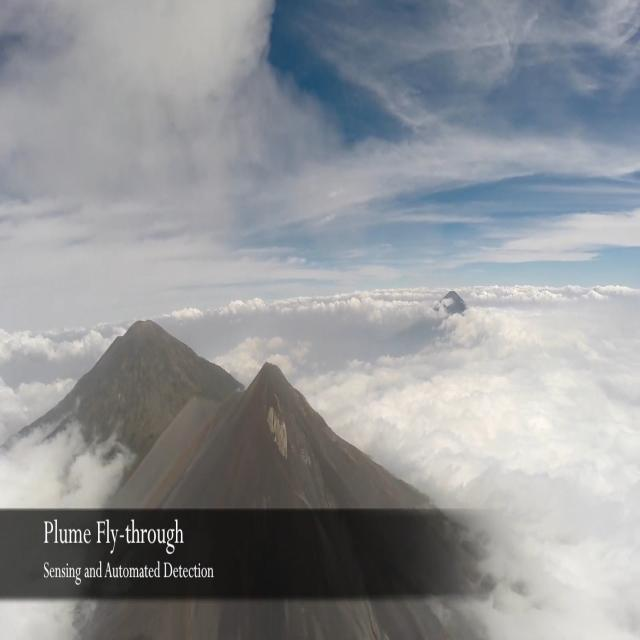Summit: (234, 355, 368, 460)
